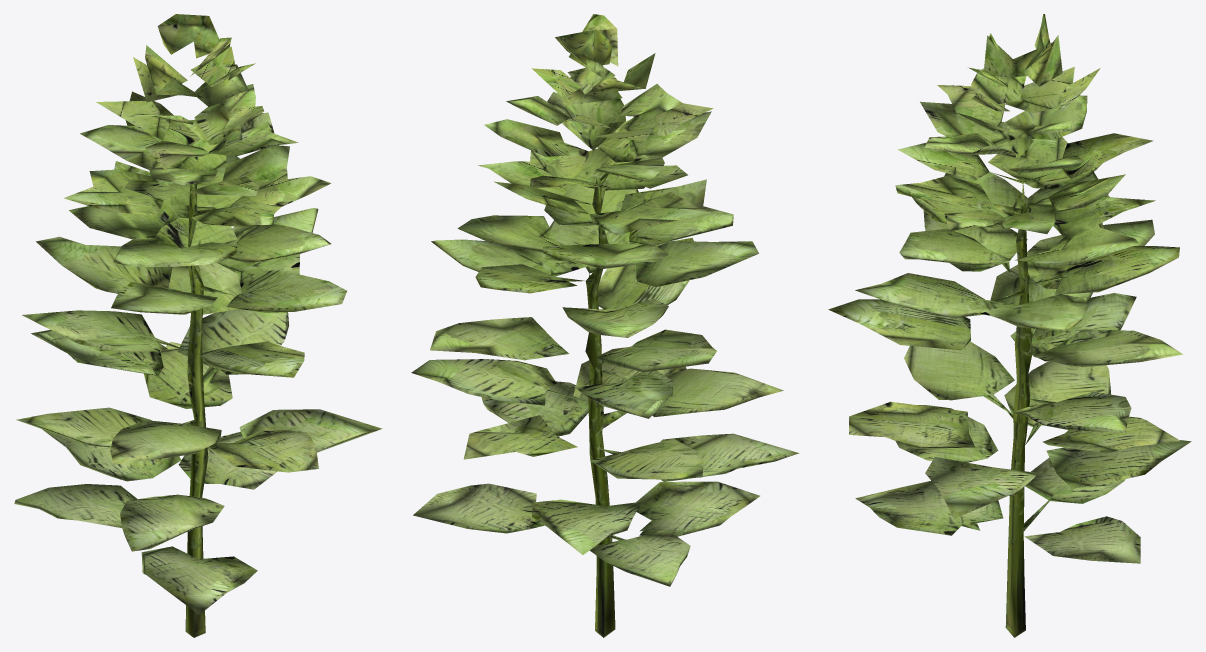
3 renders of one model, left to right at view 1: azimuth 30°, elevation 25°; view 2: azimuth 150°, elevation 25°; view 3: azimuth 270°, elevation 25°, orthographic.
Parts seen in each view (by area): view 1: Mesh1.0; view 2: Mesh1.0; view 3: Mesh1.0.
Boxes of the visible parts, <box> form: Mesh1.0: <box>14,14,382,637</box>; Mesh1.0: <box>411,14,799,637</box>; Mesh1.0: <box>828,14,1191,637</box>.
Bounding box in the file's own units: 100 × 198 × 106.
1 material, 1 textured.
